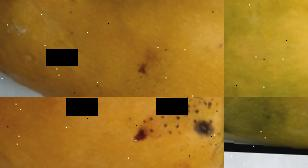PartiallyRipe: (224, 0, 308, 97), (224, 97, 308, 159)
Ripe: (0, 0, 224, 97), (0, 97, 224, 168)
